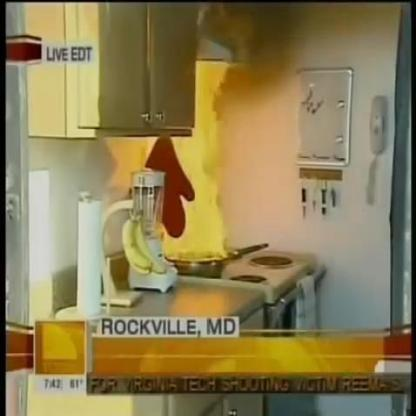fire: (140, 58, 251, 263)
